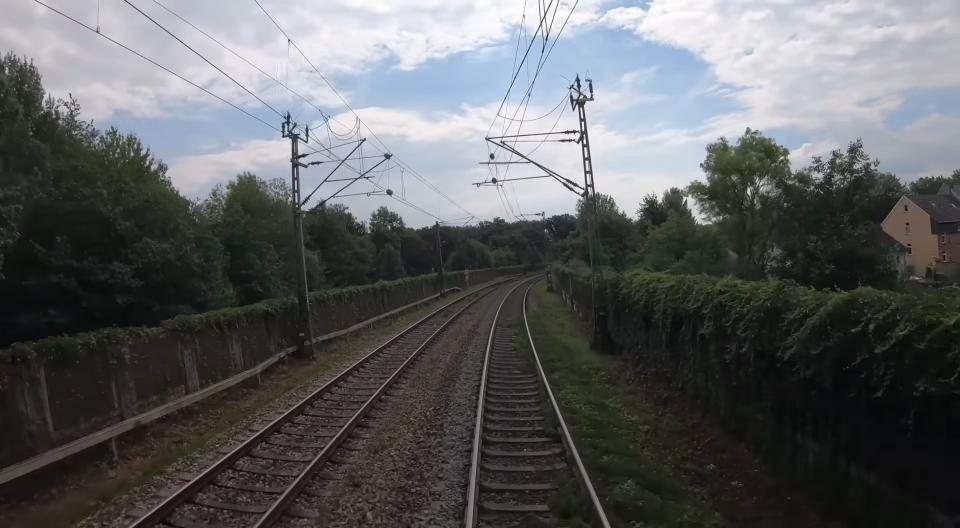Plant: (528, 285, 847, 528), (548, 470, 599, 528), (503, 320, 536, 373), (538, 389, 560, 436)
